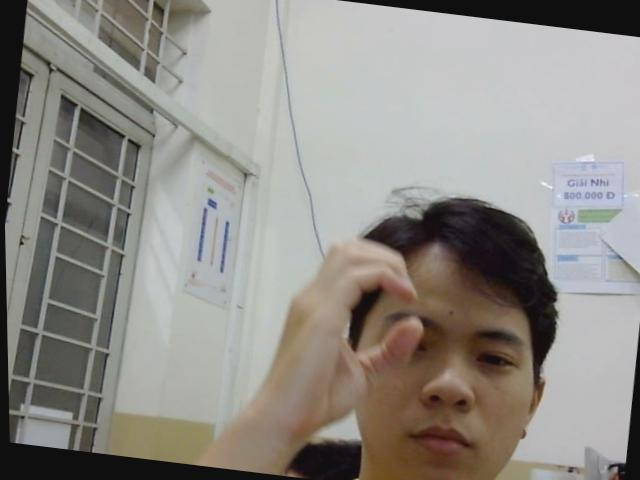C: (248, 228, 434, 434)
